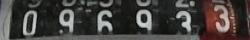digits: (94, 5, 115, 39), (131, 9, 155, 38), (55, 8, 77, 38), (173, 10, 195, 39), (213, 4, 230, 32), (22, 10, 37, 35)
